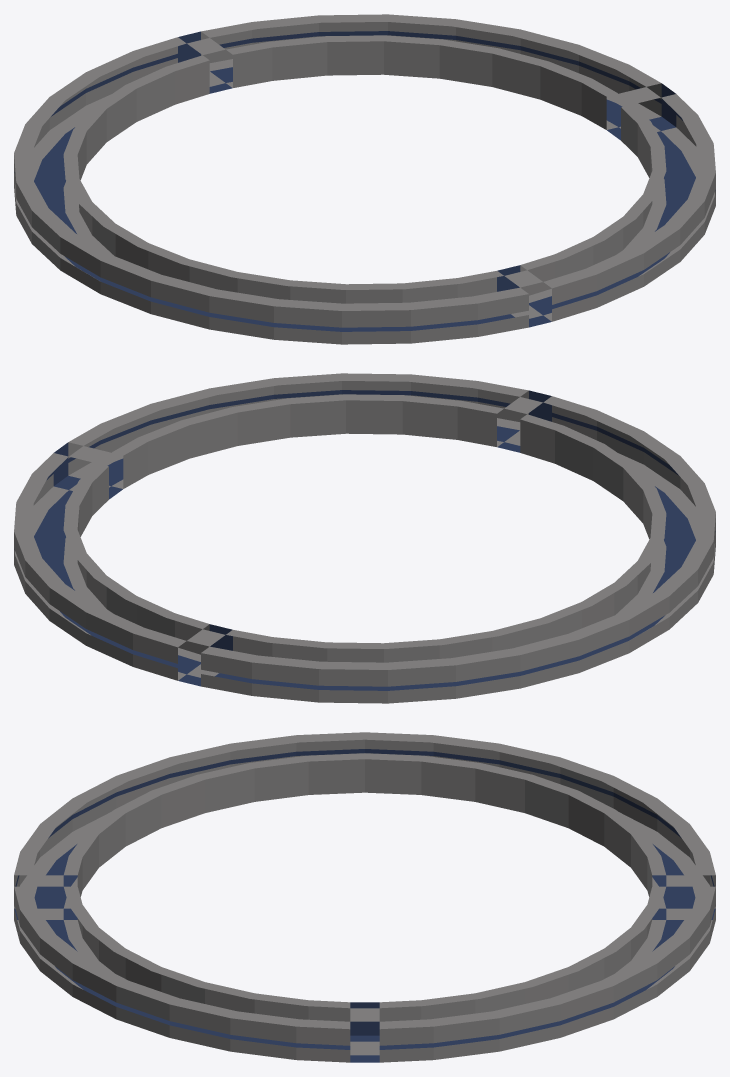
The model's file is waiting_area.fbx.
3 views of the same model, one above another, from view 1: azimuth 30°, elevation 25°; view 2: azimuth 150°, elevation 25°; view 3: azimuth 270°, elevation 25° (orthographic).
Visible parts, largest first — view 1: Waiting_zone; view 2: Waiting_zone; view 3: Waiting_zone.
Boxes of the visible parts, left/top/right/bottom form: Waiting_zone: left=14, top=14, right=715, bottom=344; Waiting_zone: left=14, top=373, right=715, bottom=703; Waiting_zone: left=14, top=732, right=715, bottom=1062.
Bounding box in the file's own units: 626 × 32.9 × 625.
